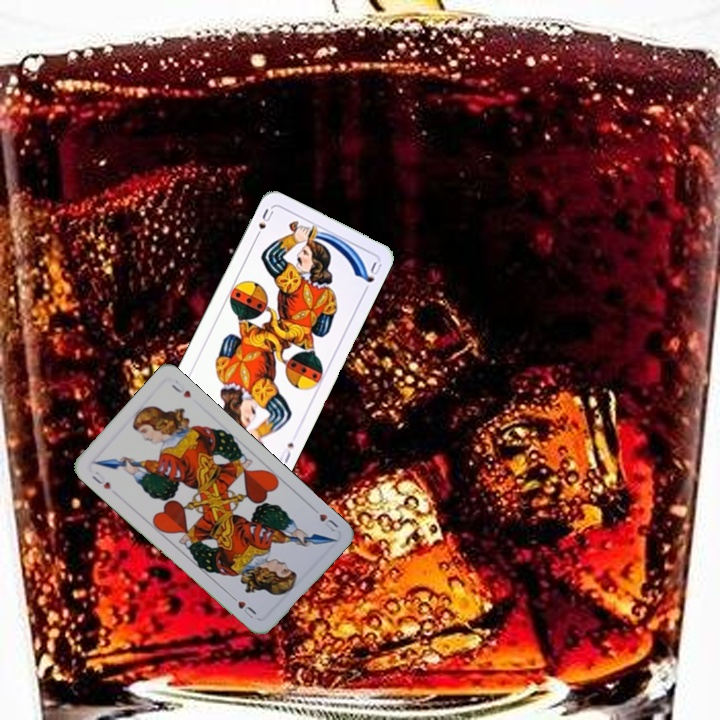HU: (307, 502, 341, 535), (87, 467, 114, 492)
SU: (250, 205, 276, 242), (275, 438, 296, 466)
